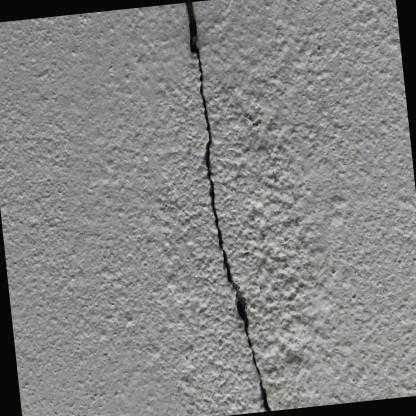crack: (183, 1, 270, 411)
